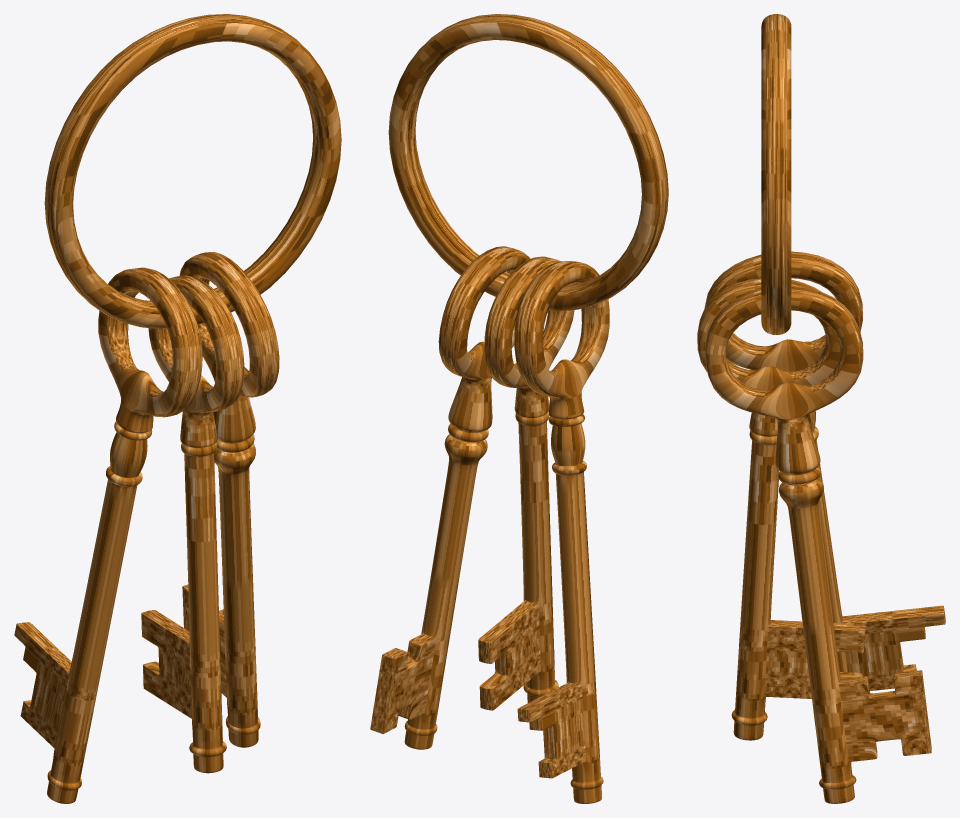
The model's file is Set_of_Keys.fbx.
3 renders of one model, left to right at view 1: azimuth 30°, elevation 25°; view 2: azimuth 150°, elevation 25°; view 3: azimuth 270°, elevation 25°, orthographic. The views are drawn at different scales.
Visible parts, largest first — view 1: 458; view 2: 458; view 3: 458.
Boxes of the visible parts, x1,y1,x2,y2 form: 458: [14, 14, 341, 803]; 458: [370, 14, 668, 803]; 458: [697, 14, 945, 803].
Size of the model in its own units: 18.68 by 47.84 by 14.42.
